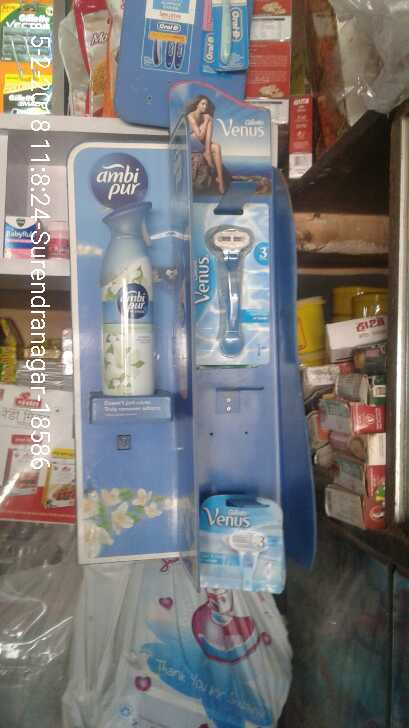beauty: (180, 196, 273, 368), (194, 476, 295, 598)
home: (98, 198, 166, 394)
pharmacy: (4, 212, 41, 263)
